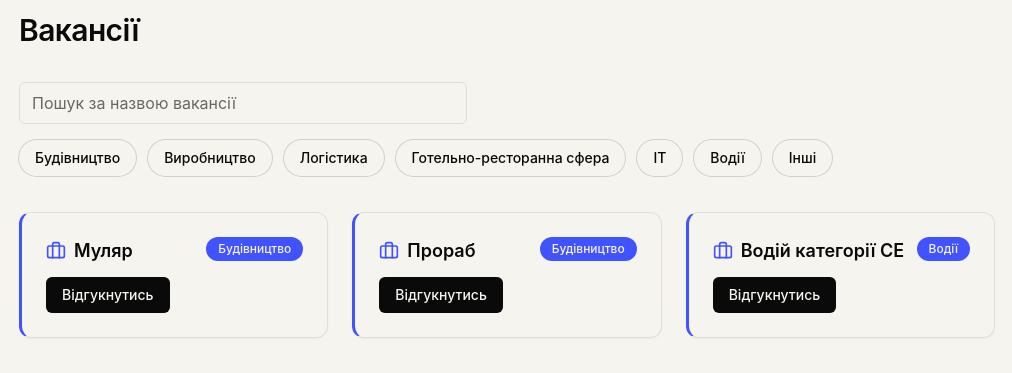
Test: vacancy list filtering › shows the empty-filter message
Expected: the heading "Муляр" is shown, [74,236,133,264]
Step 1. Type "zzz" into the field named "Пошук вакансій" → coordinates (243, 102), box [19,82,467,124]
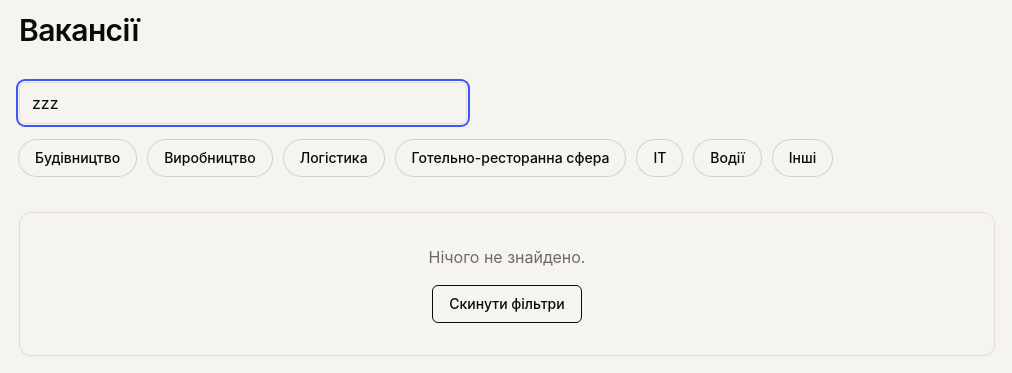
Result: the text "Нічого не знайдено." is shown at [428,244,585,268]
